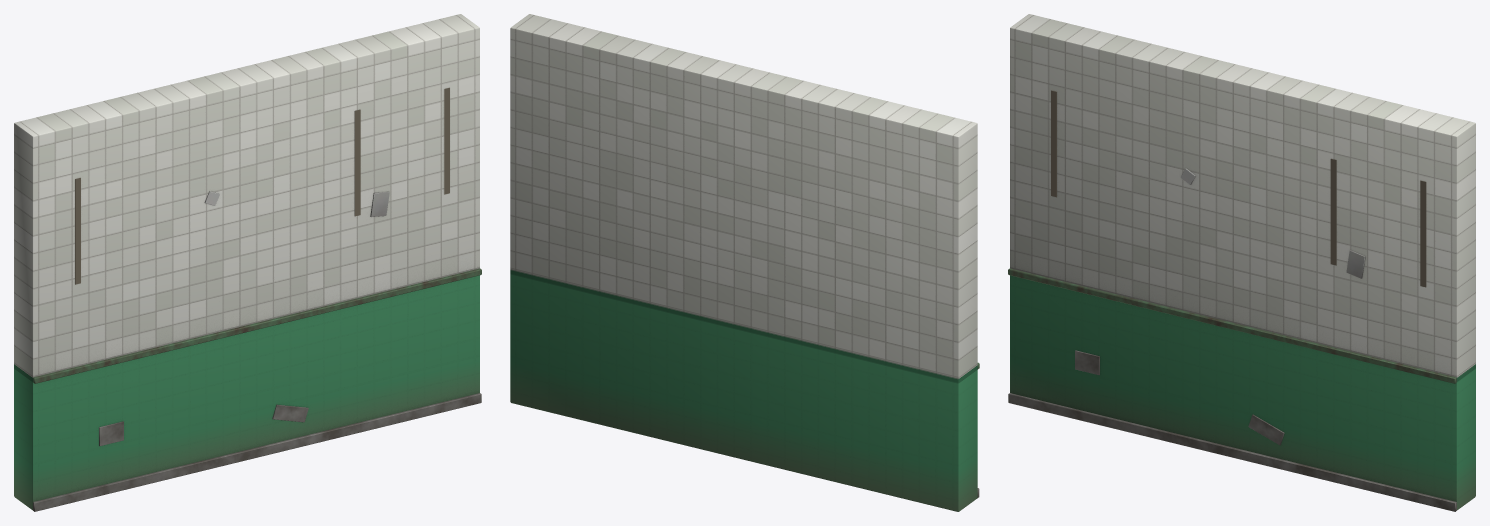
File: g67_pz_wall_a.glb
3 views of the same model, side by side, from view 1: azimuth 30°, elevation 25°; view 2: azimuth 150°, elevation 25°; view 3: azimuth 330°, elevation 25° (orthographic).
Visible parts, largest first — view 1: g67_pz_wall_a; view 2: g67_pz_wall_a; view 3: g67_pz_wall_a.
Boxes of the visible parts, bbox=[...] form: g67_pz_wall_a: bbox=[14, 14, 481, 511]; g67_pz_wall_a: bbox=[510, 14, 979, 511]; g67_pz_wall_a: bbox=[1008, 14, 1475, 511].
Size of the model in its own units: 4 by 3.2 by 0.327.
Materials: 1 (1 with a texture image).
